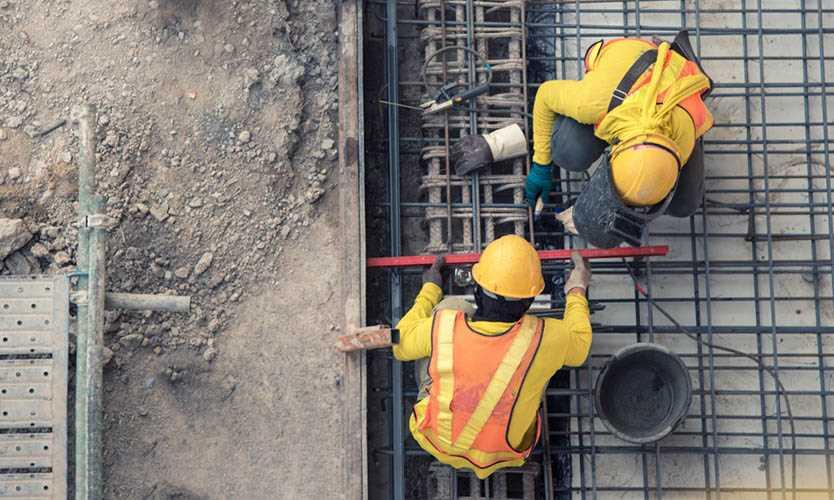helmet: (609, 131, 683, 217), (474, 238, 547, 300)
